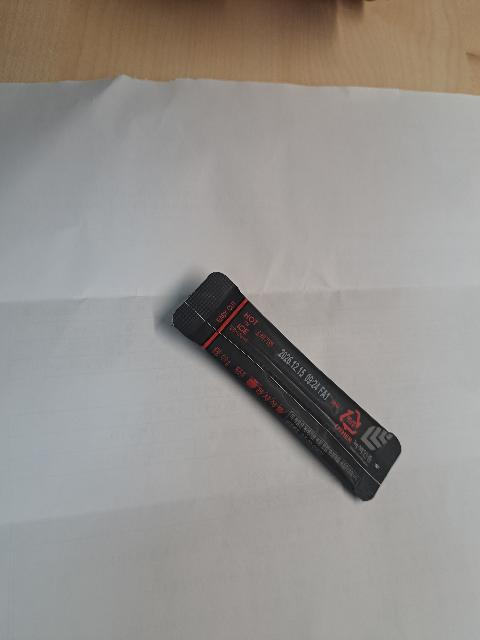KANU: (152, 260, 415, 520)
